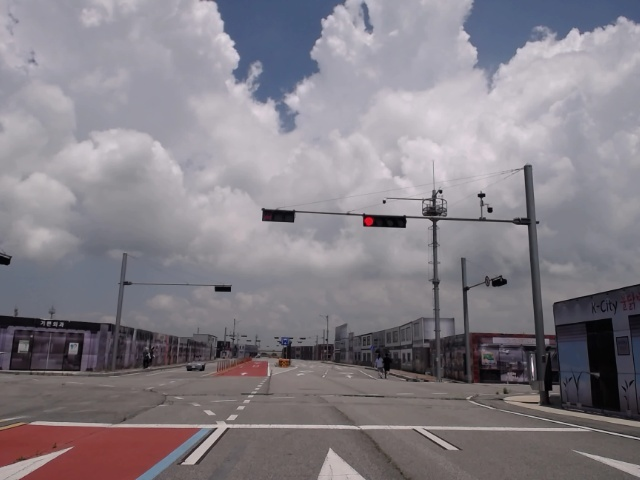red_4: (363, 215, 406, 228)
